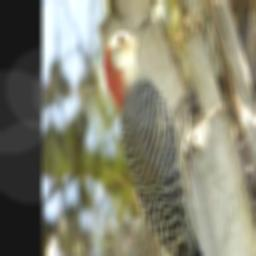Woodpecker: (99, 15, 221, 256)
